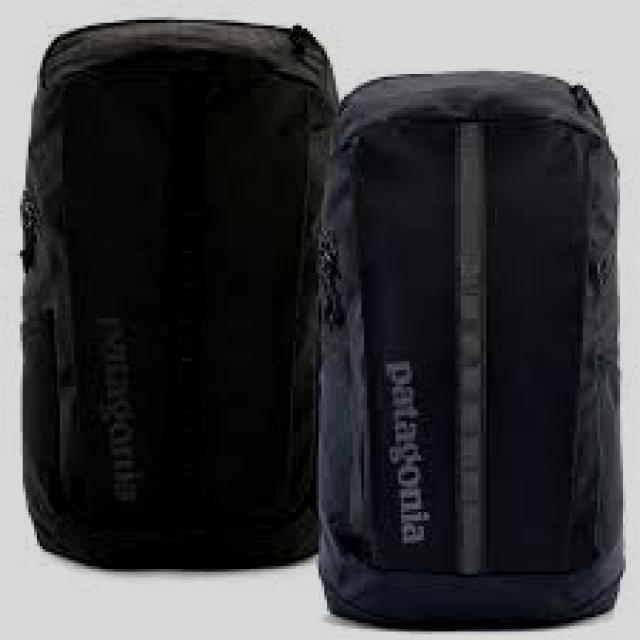backpack: (18, 18, 340, 570), (314, 70, 624, 630)
